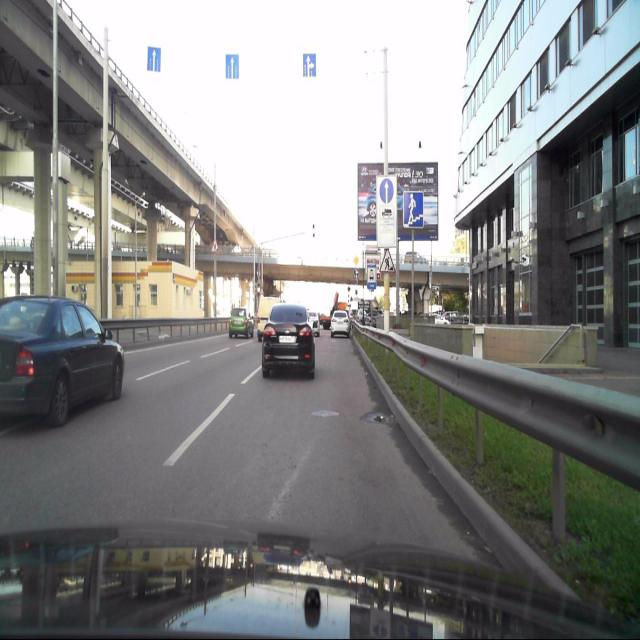object: (376, 172, 398, 250)
road sign: (403, 190, 423, 229), (302, 52, 316, 78), (146, 47, 160, 71), (380, 250, 394, 273), (226, 54, 238, 79), (366, 265, 376, 292)
